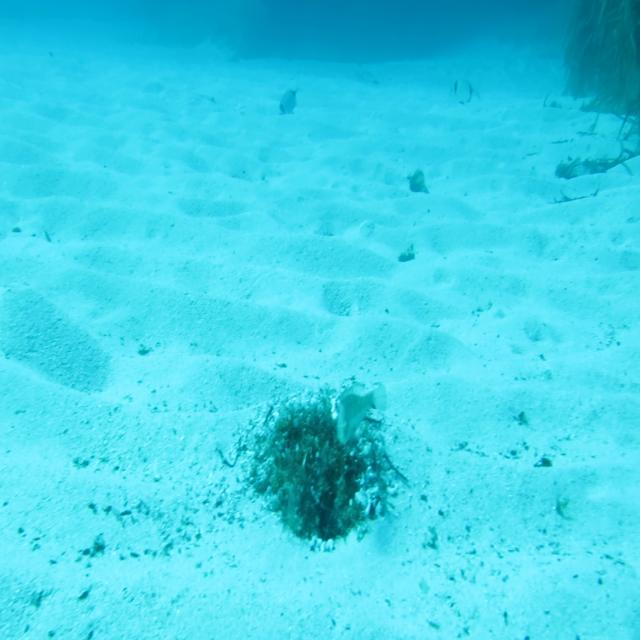BN: (335, 381, 388, 447)
core_nest: (292, 422, 345, 457), (448, 74, 480, 113), (277, 83, 301, 120)
nest: (234, 381, 406, 559)
vegetation: (552, 0, 640, 204), (408, 167, 431, 198), (395, 240, 419, 264)
